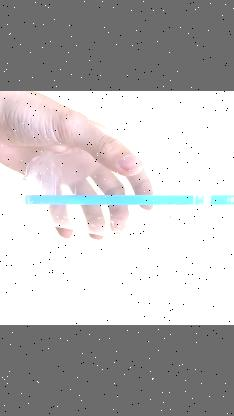Others: (18, 136, 234, 267)
